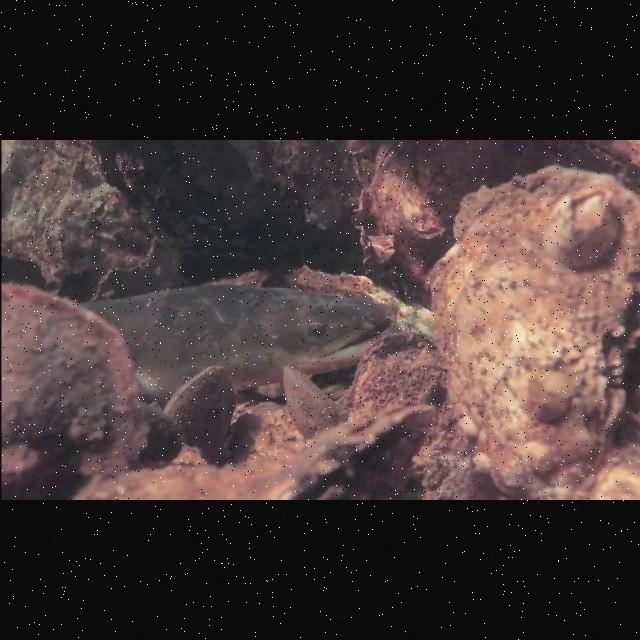Oyster-Closed: (422, 162, 631, 497), (3, 271, 154, 490), (231, 399, 445, 497), (338, 323, 448, 422), (158, 363, 237, 460), (282, 364, 347, 437)
